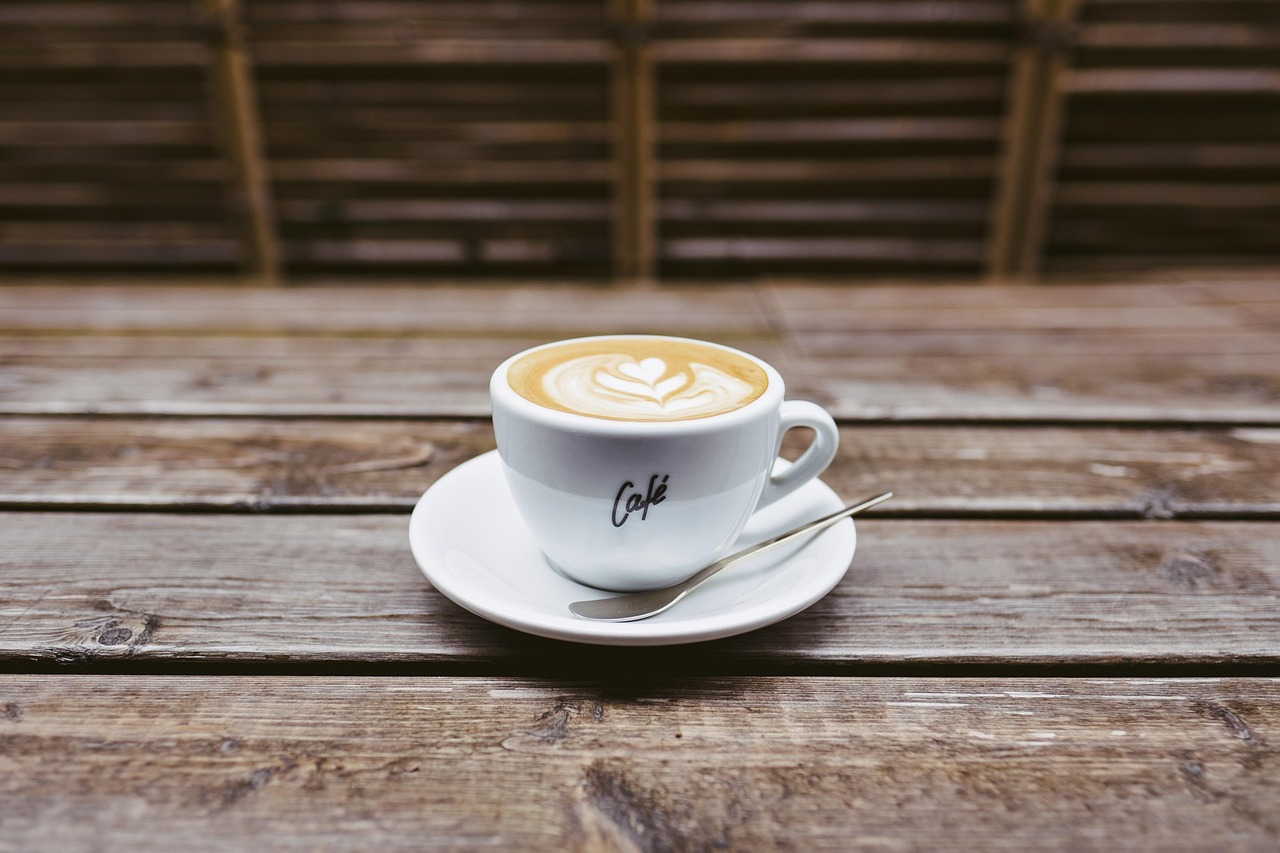mug: (462, 306, 851, 604)
